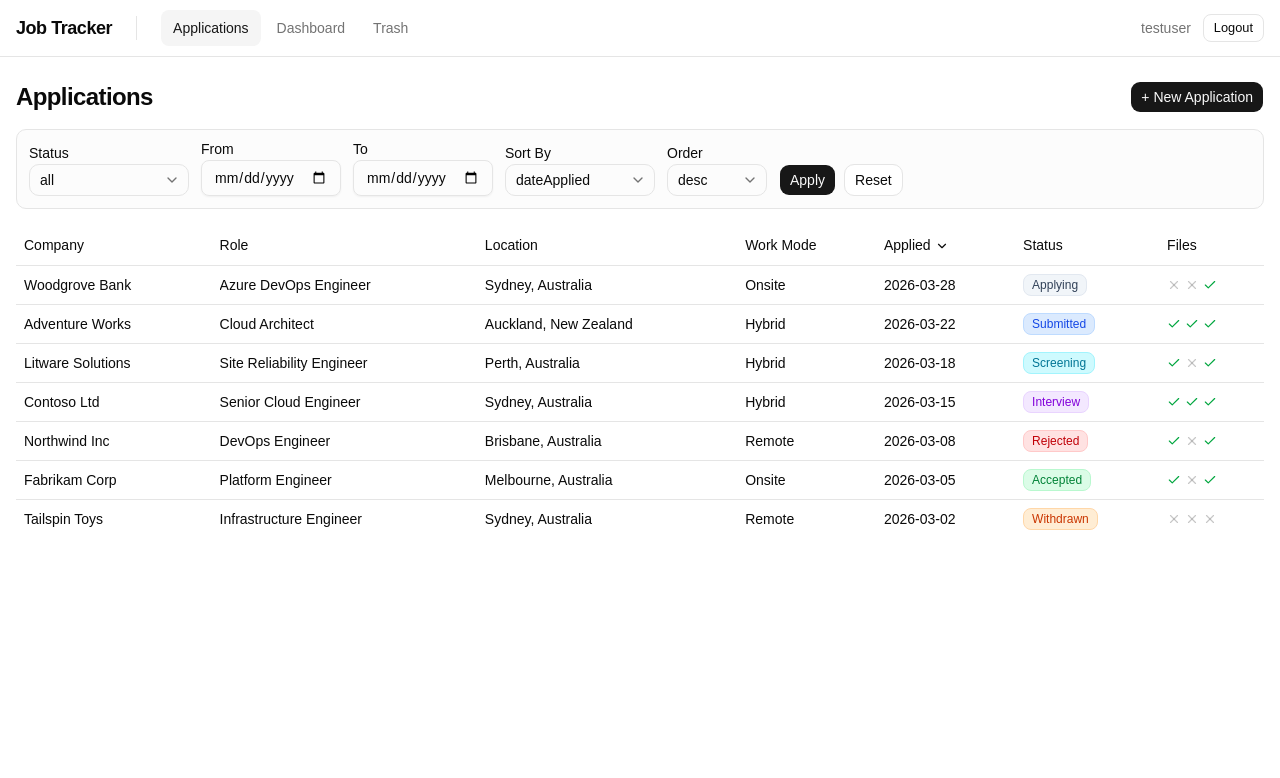
Test: ApplicationsPage › successfully creates application and navigates to detail
Click the button "+ New Application" at x=1197, y=97, box [1130,81,1264,113]
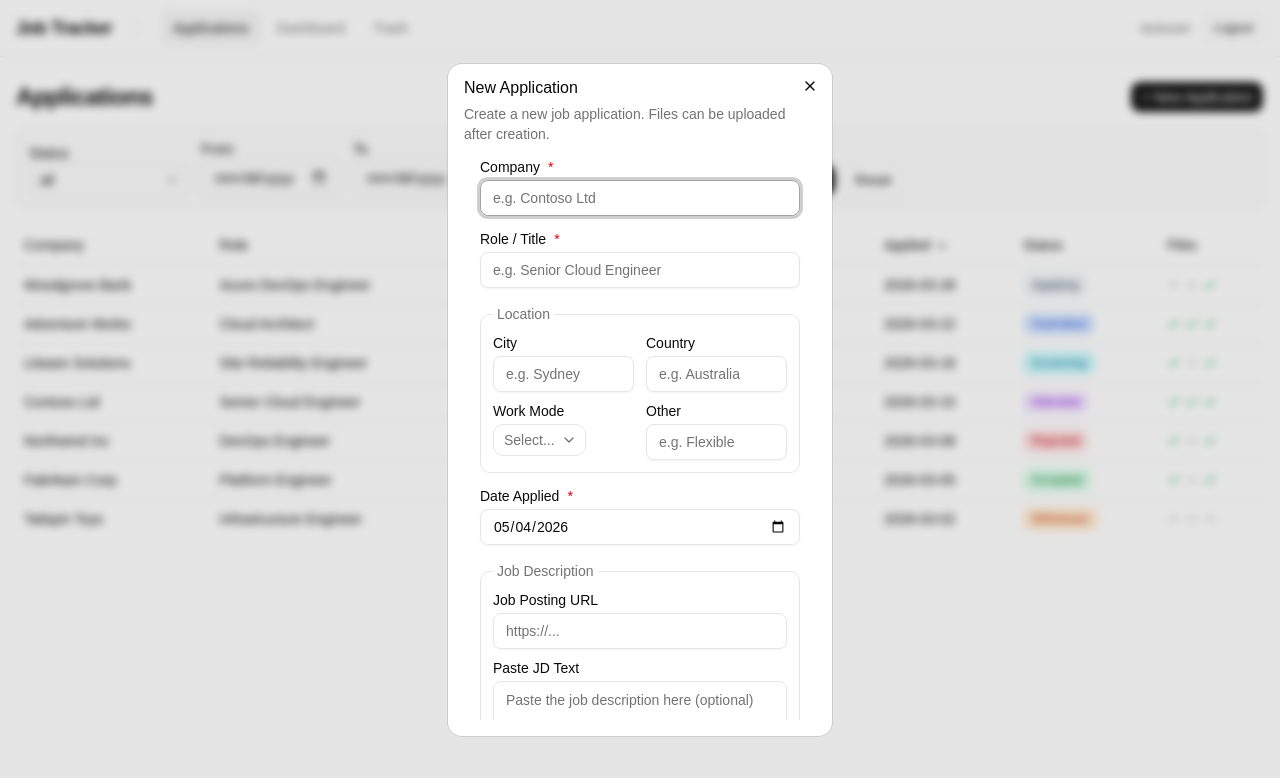
Check: the heading "New Application" is shown, box [464,79,578,96]
Type "New Corp" into the field labelled "Company *" at x=640, y=198, box [480,180,800,216]
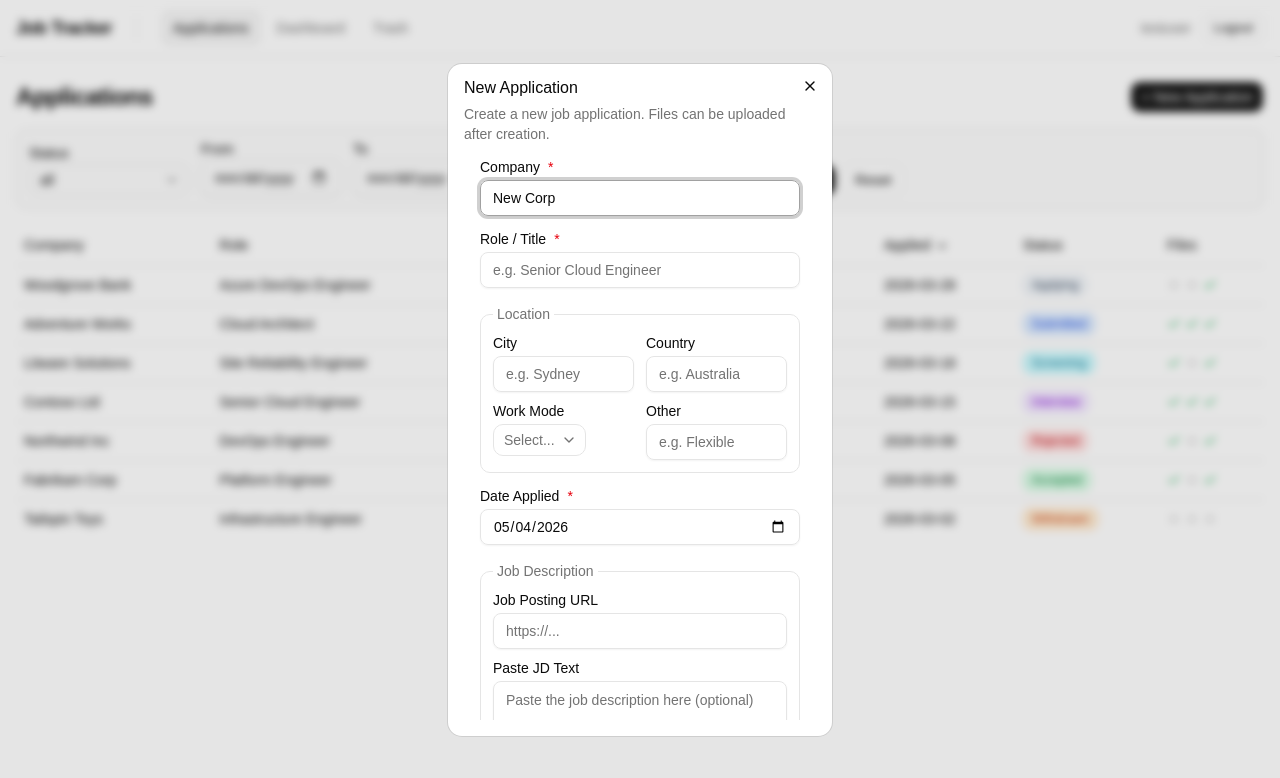
Type "Developer" into the field labelled "Role / Title *" at x=640, y=270, box [480,252,800,288]
(page scrolled)
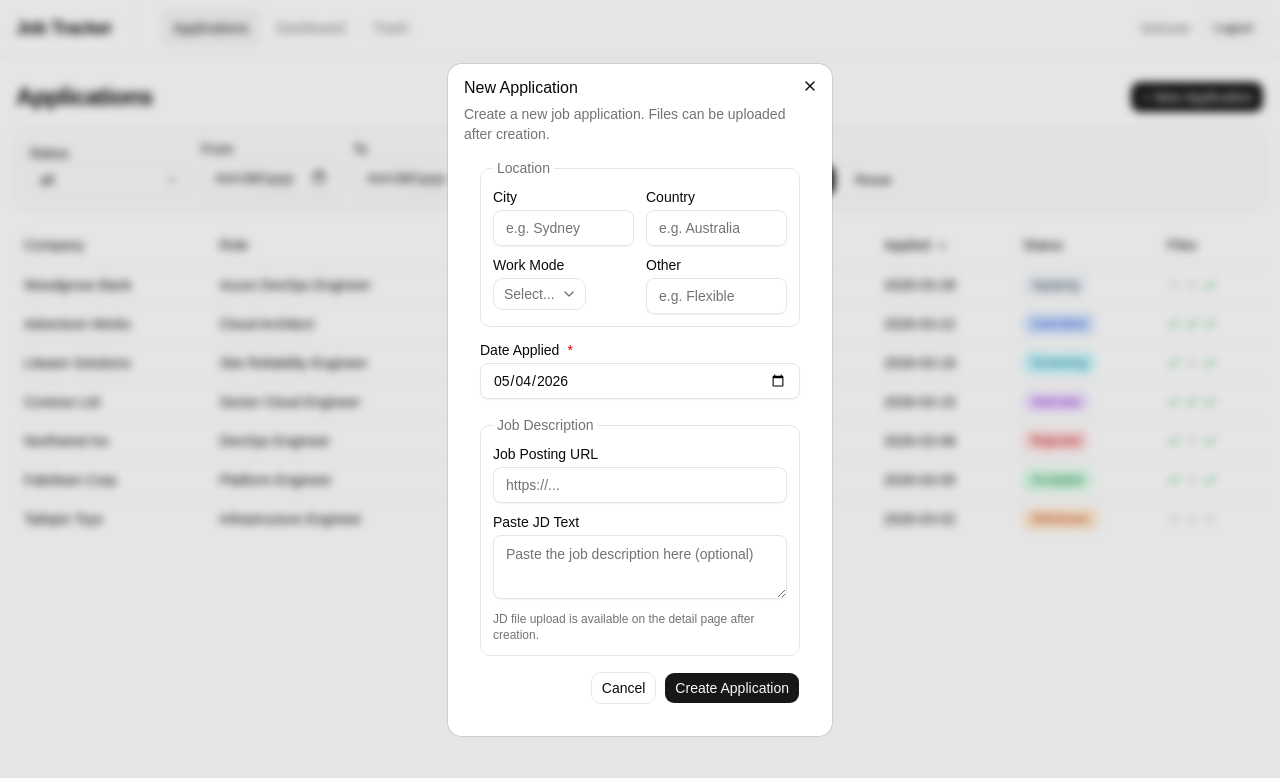
Click the button "Create Application" at x=732, y=688, box [664,672,800,704]
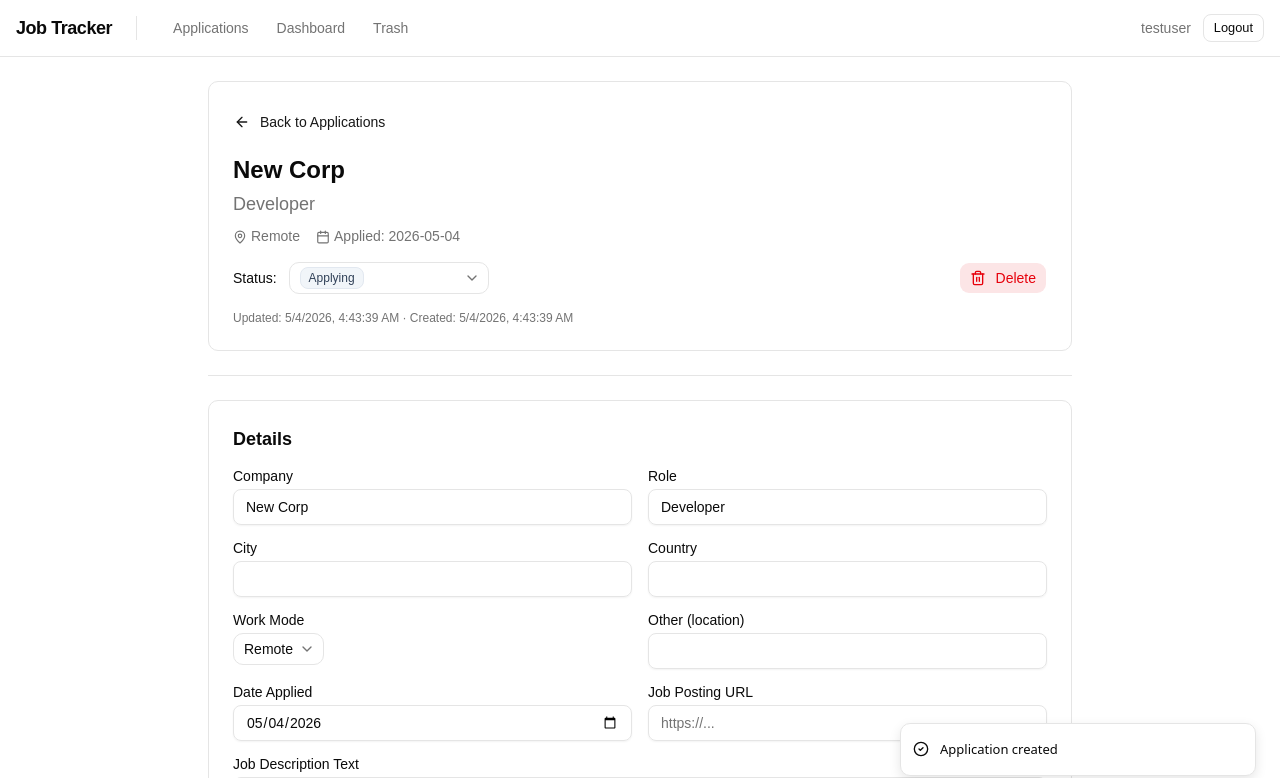
Check: the heading "New Corp" is shown, box [233,156,345,183]
